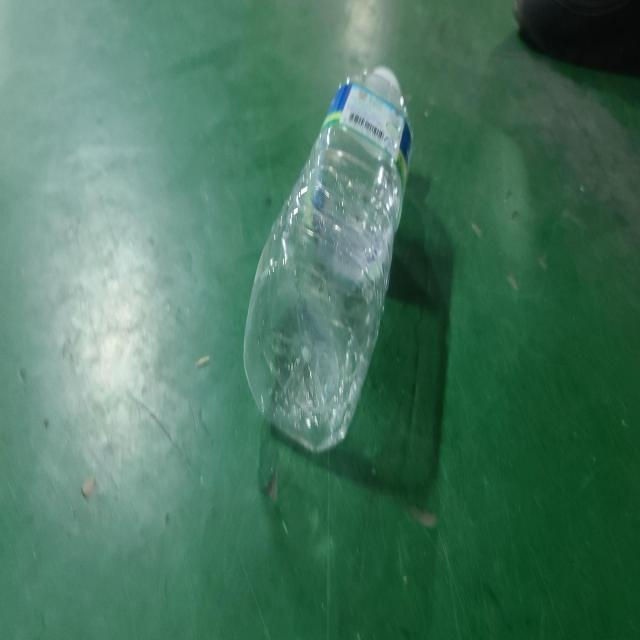plastic: (244, 65, 412, 451)
